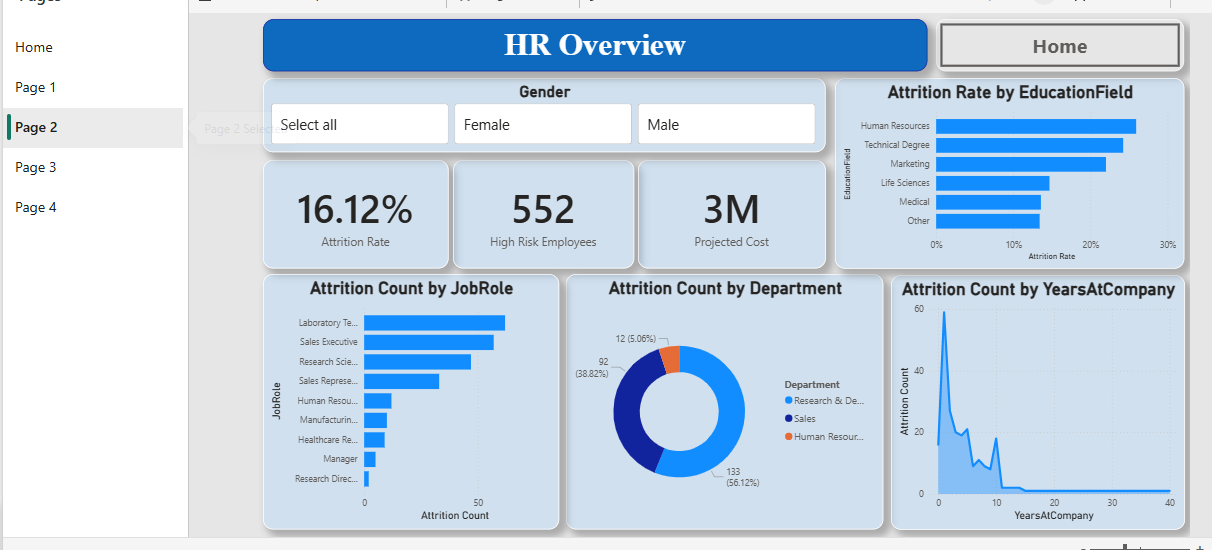

The dashboard page shown, as its layout file describes it:
{"tool":"powerbi","page":{"name":"Page 2","canvas":[1280,720],"ordinal":2},"visuals":[{"type":"cardVisual","fields":{"Data":["IBM_HR_Final_PowerBI.Attrition Rate"]},"box":[5.9,202,254.6,149.3],"z":0},{"type":"cardVisual","fields":{"Data":["IBM_HR_Final_PowerBI.High Risk Employees"]},"box":[266.3,202,248.8,149.3],"z":1000},{"type":"cardVisual","fields":{"Data":["IBM_HR_Final_PowerBI.Projected Cost"]},"box":[521,202,257.6,149.3],"z":2000},{"type":"donutChart","fields":{"Category":["IBM_HR_Final_PowerBI.Department"],"Y":["IBM_HR_Final_PowerBI.Attrition Count"]},"box":[421.5,358.5,436.1,351.2],"z":3000},{"type":"clusteredBarChart","fields":{"Category":["IBM_HR_Final_PowerBI.JobRole"],"Y":["IBM_HR_Final_PowerBI.Attrition Count"]},"box":[5.9,358.5,406.8,351.2],"z":4000},{"type":"actionButton","box":[930.7,8.8,341,71.7],"z":5000},{"type":"advancedSlicerVisual","fields":{"Values":["IBM_HR_Final_PowerBI.Gender"]},"box":[5.9,89.3,772.7,102.4],"z":6000},{"type":"areaChart","fields":{"Category":["IBM_HR_Final_PowerBI.YearsAtCompany"],"Y":["IBM_HR_Final_PowerBI.Attrition Count"]},"box":[867.8,360,403.9,349.8],"z":7000},{"type":"clusteredBarChart","fields":{"Category":["IBM_HR_Final_PowerBI.EducationField"],"Y":["IBM_HR_Final_PowerBI.Attrition Rate"]},"box":[791.7,89.3,480,262],"z":8000},{"type":"textbox","box":[5.9,8.8,913.2,71.7],"z":9000}]}

Visuals, with their boxes on the page's 1280x720 design canvas (x1, y1, x2, y2). These are canvas units, not pixel positions in the 1212x550 screenshot, which may show the page scaled, cropped or inside an application window:
cardVisual - IBM_HR_Final_PowerBI.Attrition Rate: 6:202:260:351
cardVisual - IBM_HR_Final_PowerBI.High Risk Employees: 266:202:515:351
cardVisual - IBM_HR_Final_PowerBI.Projected Cost: 521:202:779:351
donutChart - IBM_HR_Final_PowerBI.Department x IBM_HR_Final_PowerBI.Attrition Count: 422:358:858:710
clusteredBarChart - IBM_HR_Final_PowerBI.JobRole x IBM_HR_Final_PowerBI.Attrition Count: 6:358:413:710
actionButton: 931:9:1272:80
advancedSlicerVisual - IBM_HR_Final_PowerBI.Gender: 6:89:779:192
areaChart - IBM_HR_Final_PowerBI.YearsAtCompany x IBM_HR_Final_PowerBI.Attrition Count: 868:360:1272:710
clusteredBarChart - IBM_HR_Final_PowerBI.EducationField x IBM_HR_Final_PowerBI.Attrition Rate: 792:89:1272:351
textbox: 6:9:919:80
